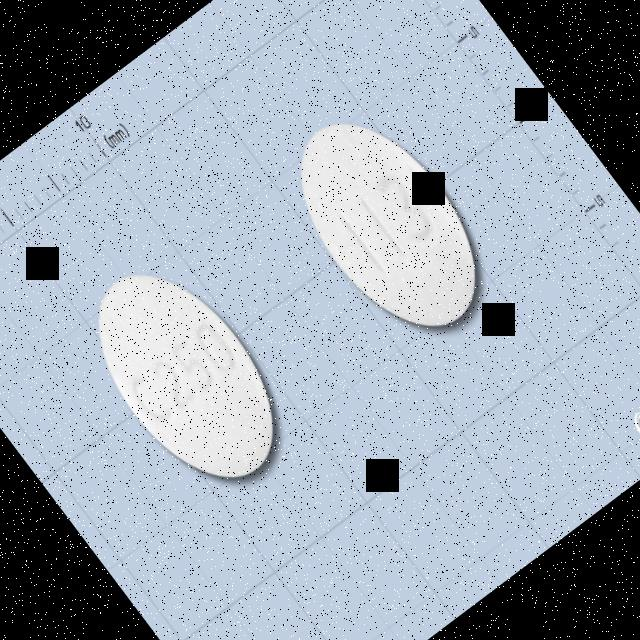Ciprofloxacin Hcl Tab- Ilyang: (257, 80, 521, 366), (62, 238, 318, 516)
